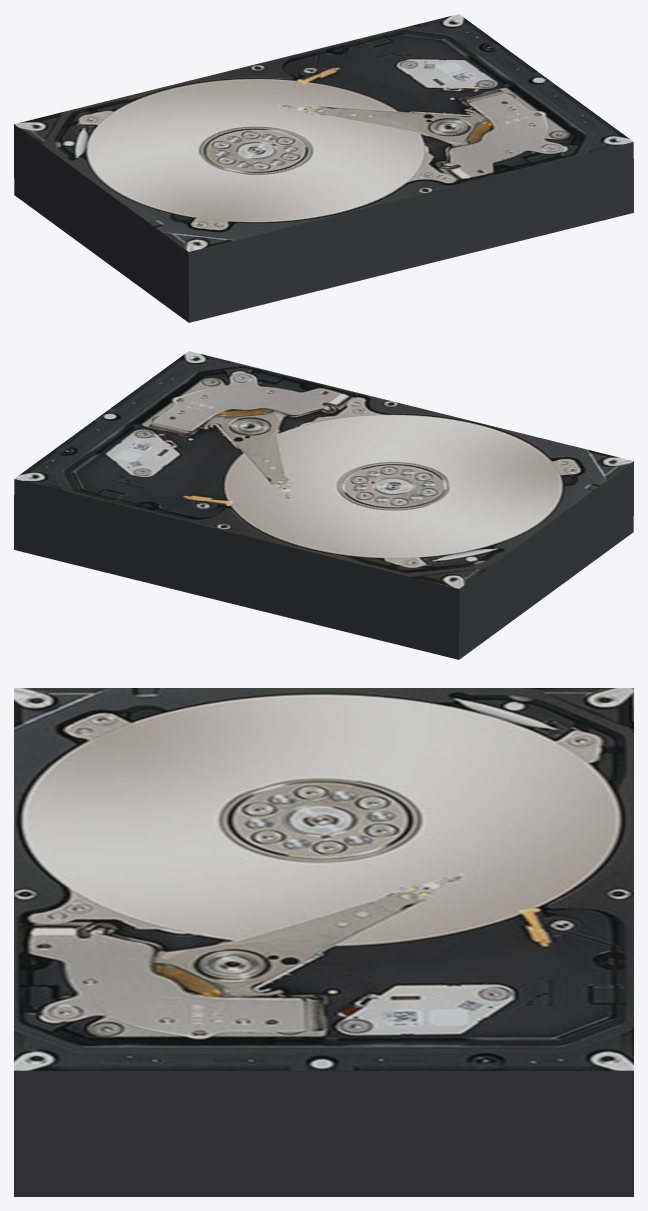
Rendered from hardDrive.gltf.
The picture shows the model from 3 angles, top to bottom: view 1: azimuth 30°, elevation 25°; view 2: azimuth 150°, elevation 25°; view 3: azimuth 270°, elevation 25°; orthographic projection. The views are drawn at different scales.
Parts seen in each view (by area): view 1: hardDrive; view 2: hardDrive; view 3: hardDrive.
Boxes of the visible parts, x1,y1,x2,y2 form: hardDrive: (14,14,633,322); hardDrive: (14,351,633,659); hardDrive: (14,688,633,1196).
Size of the model in its own units: 2.62 by 0.4079 by 1.78.
1 material, 1 textured.
